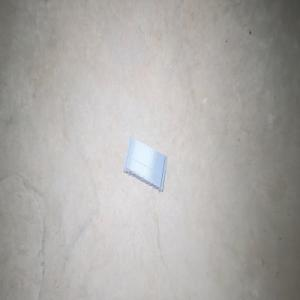PlasticPart: (122, 136, 167, 193)
